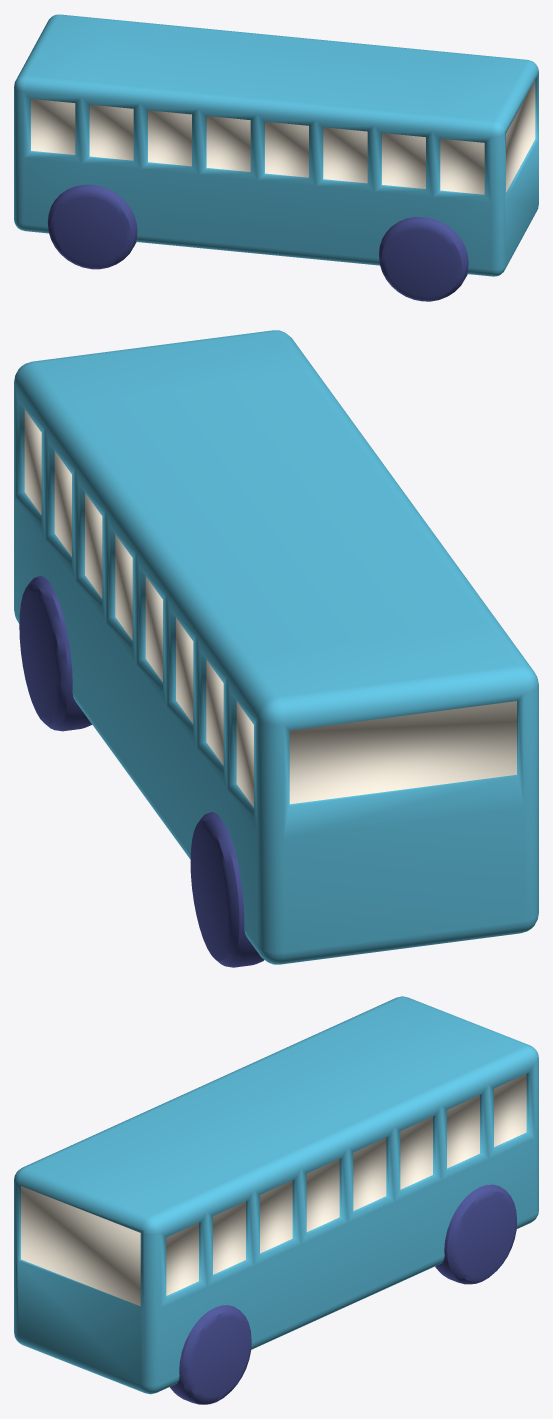
File: 066_Bus001.glb
The picture shows the model from 3 angles, top to bottom: view 1: azimuth 30°, elevation 25°; view 2: azimuth 150°, elevation 25°; view 3: azimuth 270°, elevation 25°; orthographic projection. The views are drawn at different scales.
Visible parts, largest first — view 1: 立方体067, 立方体067_1, 立方体067_2; view 2: 立方体067, 立方体067_1, 立方体067_2; view 3: 立方体067, 立方体067_1, 立方体067_2.
Part boxes in pixels (box(x1,y1,x2,y2)): 立方体067: box(14, 14, 538, 276); 立方体067_1: box(31, 80, 535, 194); 立方体067_2: box(47, 184, 468, 301); 立方体067: box(14, 330, 538, 964); 立方体067_1: box(24, 410, 516, 807); 立方体067_2: box(19, 576, 264, 967); 立方体067: box(14, 996, 538, 1394); 立方体067_1: box(21, 1074, 526, 1306); 立方体067_2: box(170, 1184, 516, 1404).
Size of the model in its own units: 6.06 by 2.55 by 5.84.
